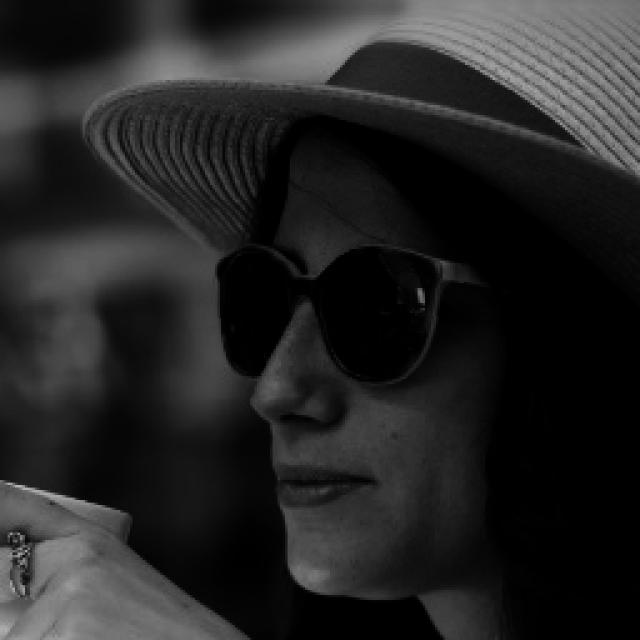glasses: (202, 236, 497, 398)
